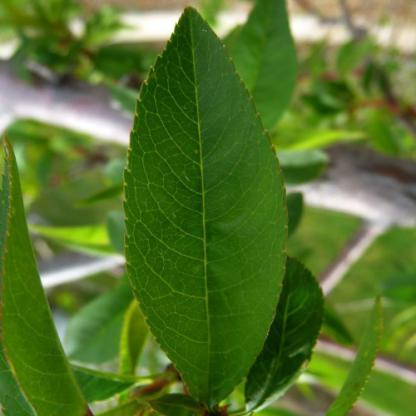Peach leaf: (104, 4, 289, 415)
